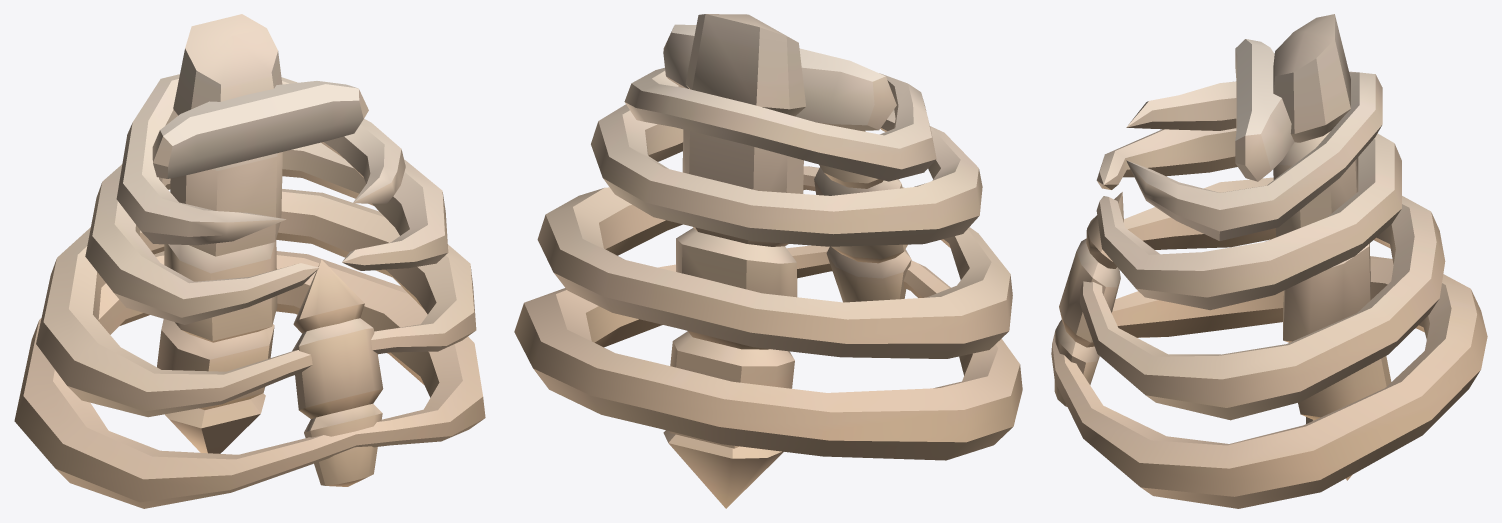
File: ribcage.glb
The picture shows the model from 3 angles, left to right: view 1: azimuth 30°, elevation 25°; view 2: azimuth 150°, elevation 25°; view 3: azimuth 270°, elevation 25°; orthographic projection. The views are drawn at different scales.
Parts seen in each view (by area): view 1: ribcage; view 2: ribcage; view 3: ribcage.
Part boxes in pixels (<box>): ribcage: <box>14,14,485,508</box>; ribcage: <box>514,14,1022,508</box>; ribcage: <box>1051,14,1487,508</box>.
Bounding box in the file's own units: 0.6897 × 0.7 × 0.6091.
Materials: 1 (1 with a texture image).
